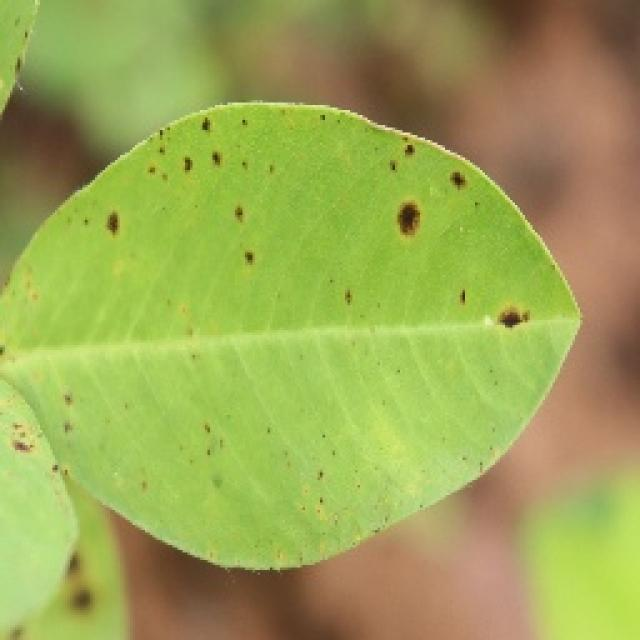Early_leaf_spot: (151, 96, 273, 276), (355, 126, 474, 258), (0, 380, 76, 508), (478, 265, 558, 337), (87, 194, 139, 278), (0, 0, 38, 97)
